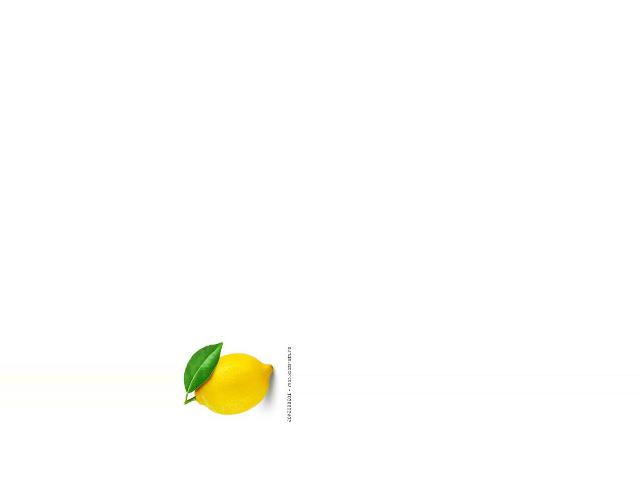lemon: (191, 345, 273, 417)
